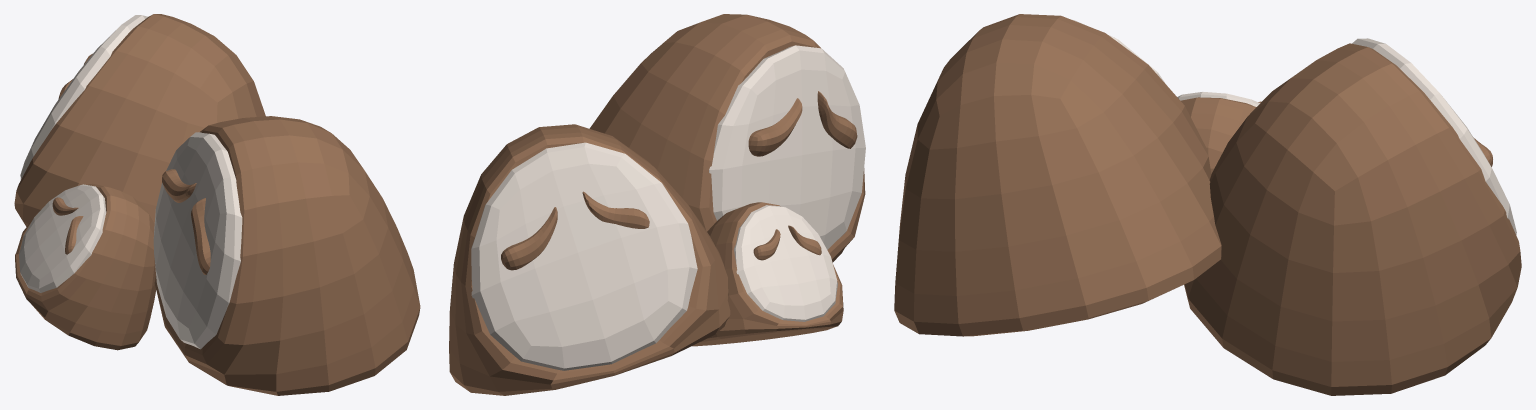
Rendered from hedfang.fbx.
3 views of the same model, side by side, from view 1: azimuth 30°, elevation 25°; view 2: azimuth 150°, elevation 25°; view 3: azimuth 270°, elevation 25° (orthographic). The views are drawn at different scales.
Visible parts, largest first — view 1: Cube.010; view 2: Cube.010; view 3: Cube.010.
Part boxes in pixels (left/top/right/bottom): Cube.010: left=14, top=14, right=420, bottom=395; Cube.010: left=449, top=14, right=865, bottom=395; Cube.010: left=894, top=14, right=1521, bottom=395.
Bounding box in the file's own units: 217 × 167 × 323.
